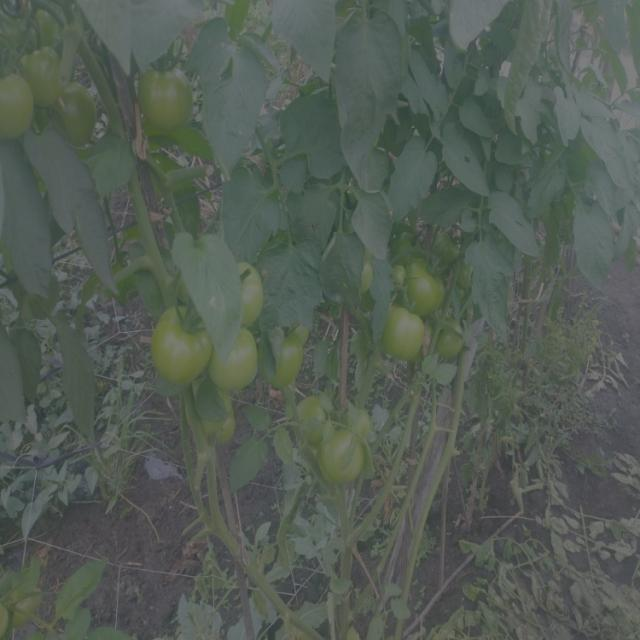tomato: (157, 298, 208, 387), (140, 63, 194, 134), (206, 329, 263, 387), (384, 305, 428, 370), (30, 44, 68, 114), (4, 72, 41, 143), (199, 398, 243, 451), (328, 434, 368, 486), (417, 261, 450, 313), (67, 88, 98, 141), (268, 339, 307, 380), (230, 265, 261, 311), (439, 325, 468, 367), (303, 400, 332, 439), (363, 262, 383, 298), (290, 329, 313, 342), (398, 261, 411, 283)
